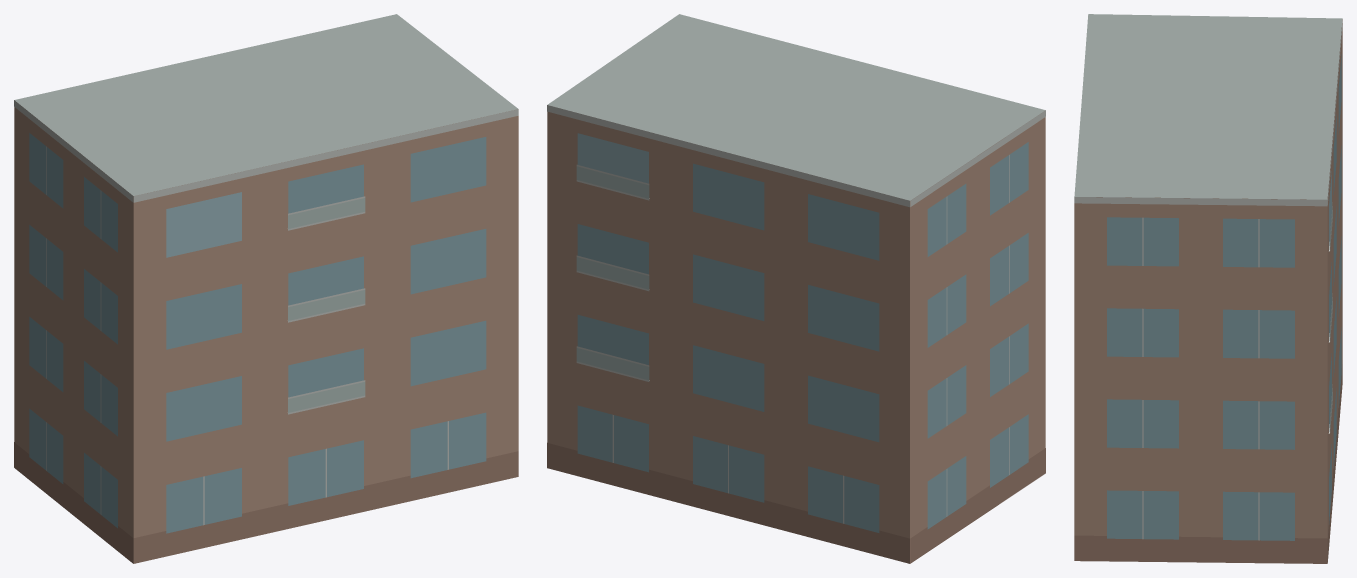
File: survey-upis-32772430.glb
The picture shows the model from 3 angles, left to right: view 1: azimuth 30°, elevation 25°; view 2: azimuth 150°, elevation 25°; view 3: azimuth 270°, elevation 25°; orthographic projection.
Parts seen in each view (by area): view 1: survey-upis-32772430.tmp; view 2: survey-upis-32772430.tmp; view 3: survey-upis-32772430.tmp.
Boxes of the visible parts, left/top/right/bottom form: survey-upis-32772430.tmp: left=14, top=14, right=518, bottom=563; survey-upis-32772430.tmp: left=547, top=14, right=1045, bottom=563; survey-upis-32772430.tmp: left=1074, top=14, right=1342, bottom=563.
Bounding box in the file's own units: 14.72 × 13.45 × 8.99.
